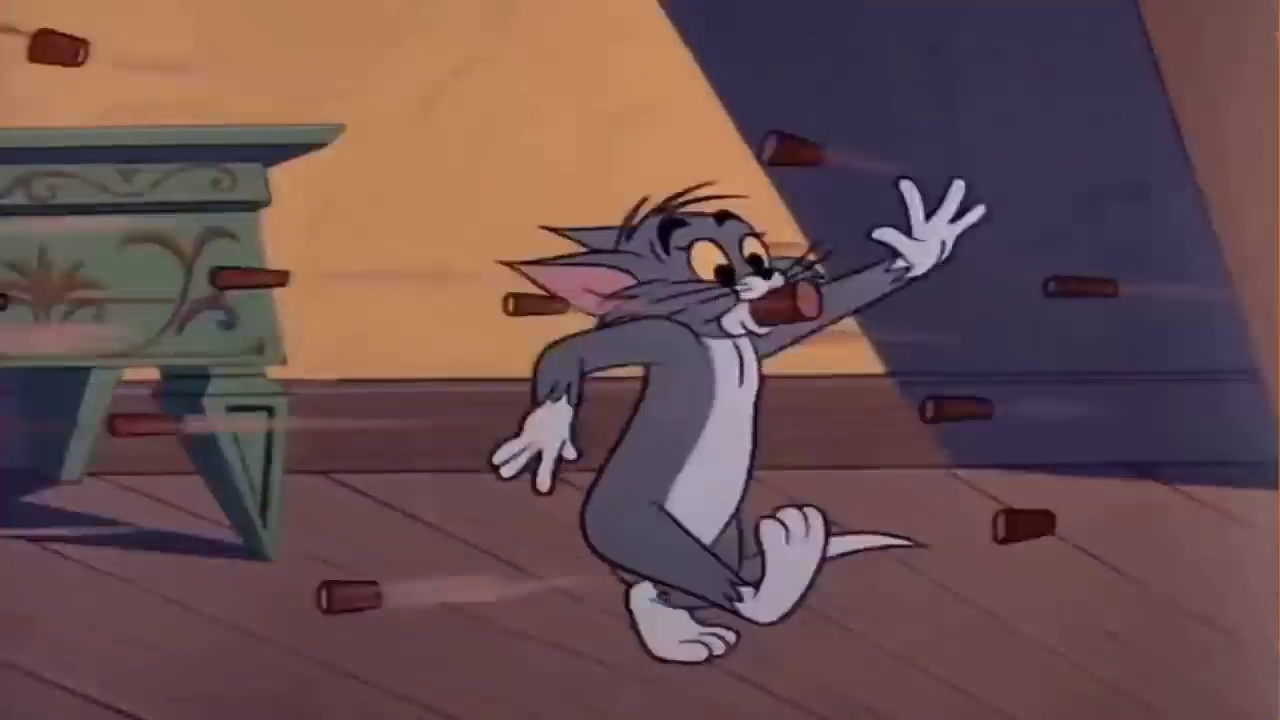face: (639, 210, 791, 341)
